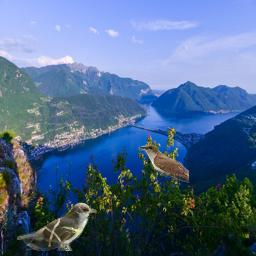Cuckoo: (17, 202, 97, 251), (137, 145, 189, 183)
